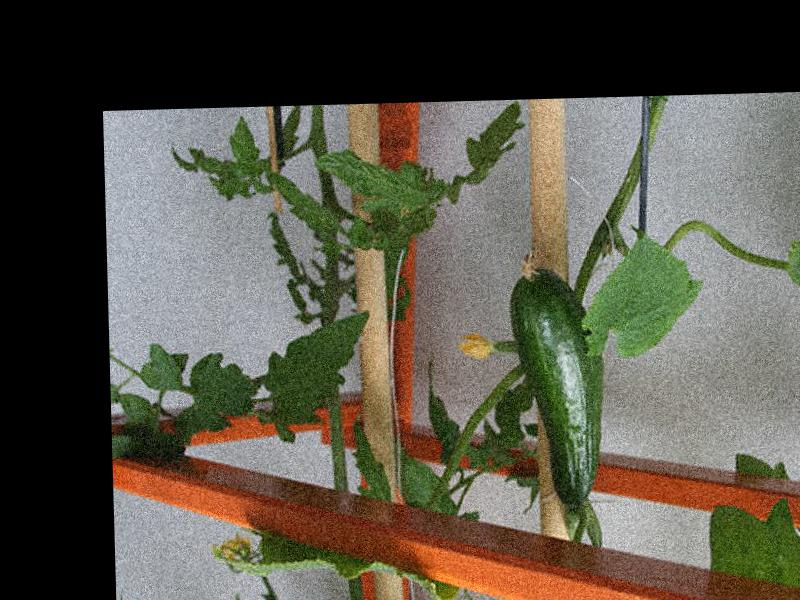Cucumber: (508, 250, 605, 506)
